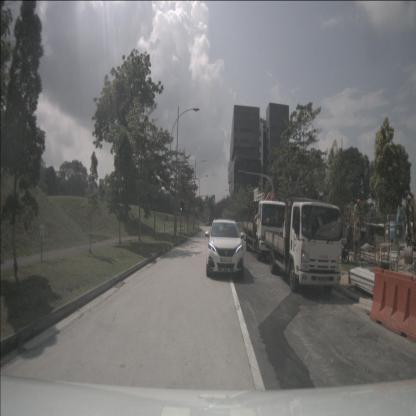movable_object-barrier: (370, 267, 416, 344)
vehicle-car: (206, 219, 243, 277)
vehicle-motorcycle: (330, 238, 350, 264)
vehicle-truck: (265, 197, 342, 294), (243, 201, 288, 262)
